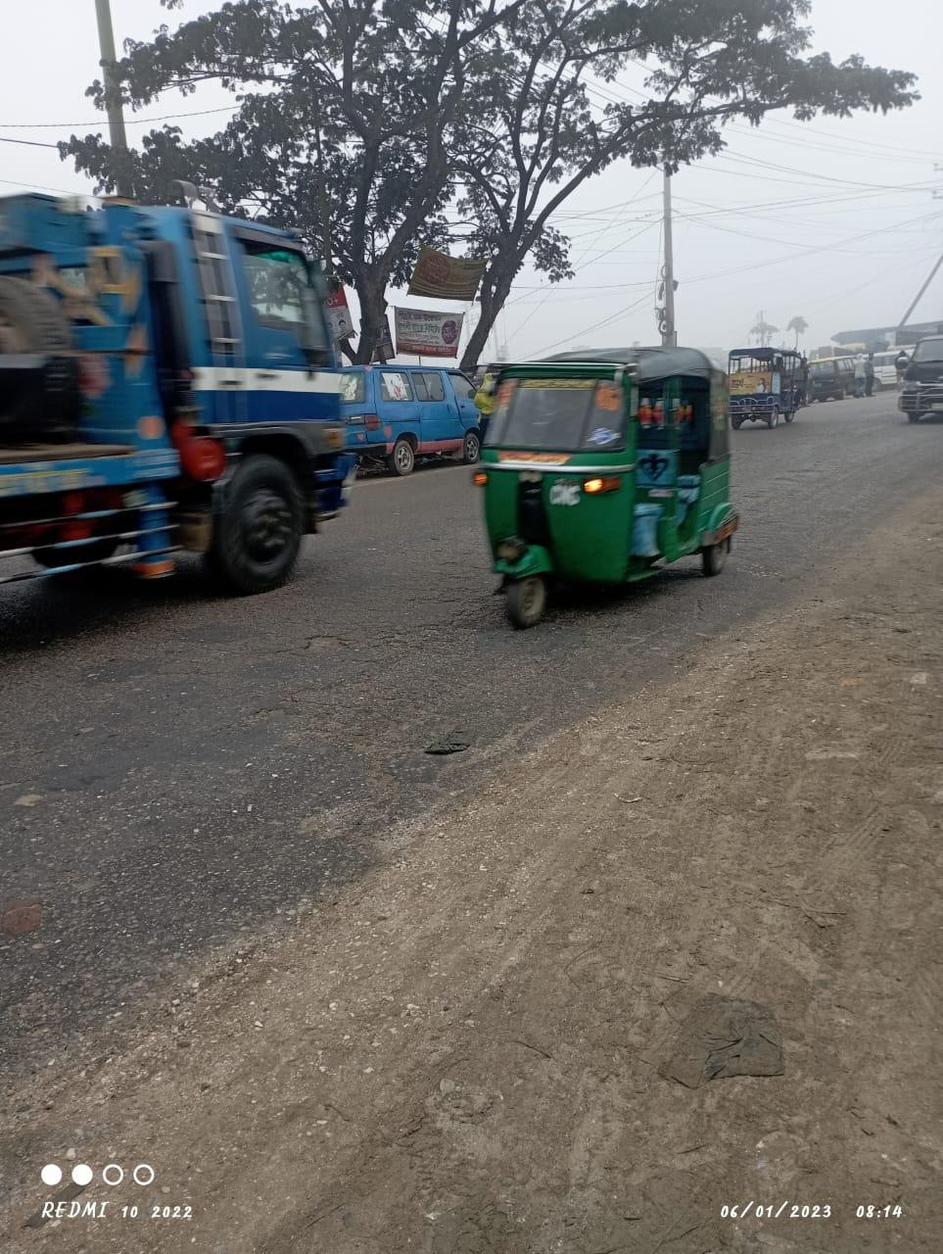Car: (349, 348, 494, 481), (726, 336, 809, 439)
Truck: (10, 179, 377, 593)
